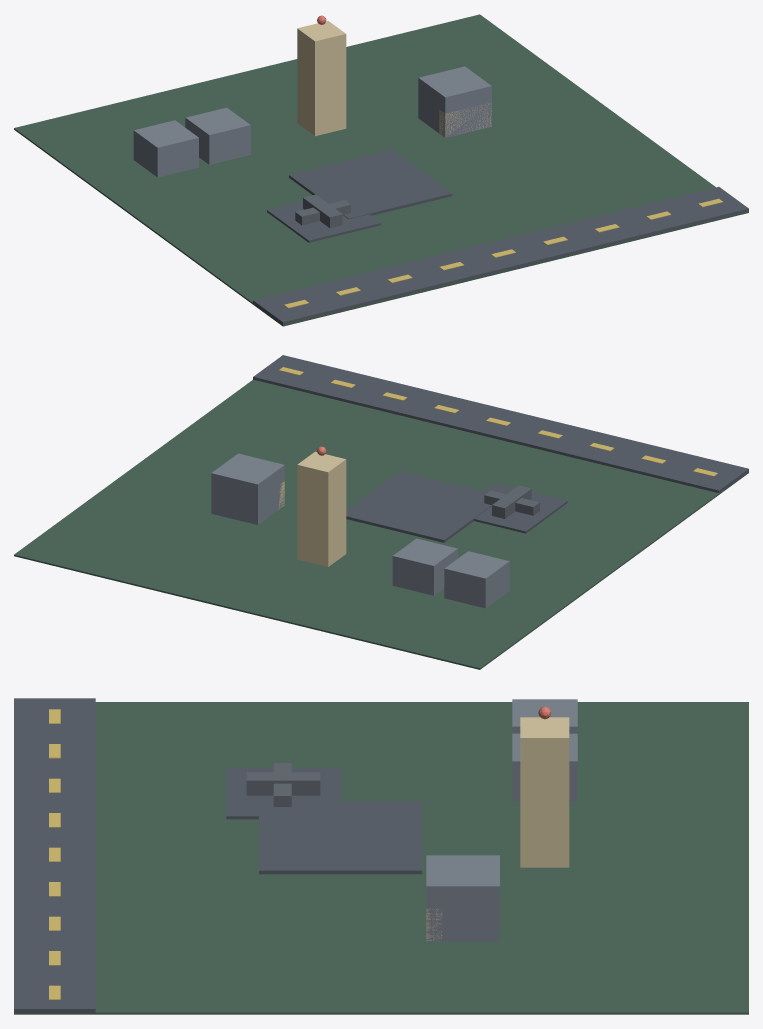
The model's file is stage_06.glb.
3 views of the same model, one above another, from view 1: azimuth 30°, elevation 25°; view 2: azimuth 150°, elevation 25°; view 3: azimuth 270°, elevation 25° (orthographic). The views are drawn at different scales.
Parts seen in each view (by area): view 1: geometry_0; view 2: geometry_0; view 3: geometry_0.
Boxes of the visible parts, x1,y1,x2,y2 form: geometry_0: [14, 14, 748, 326]; geometry_0: [14, 355, 748, 669]; geometry_0: [14, 698, 748, 1014].
Bounding box in the file's own units: 9 × 2.06 × 9.
